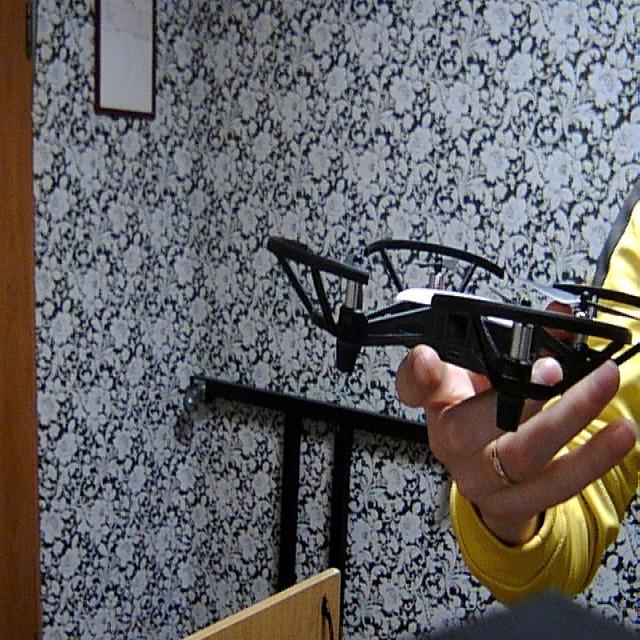drone: (242, 201, 640, 440)
